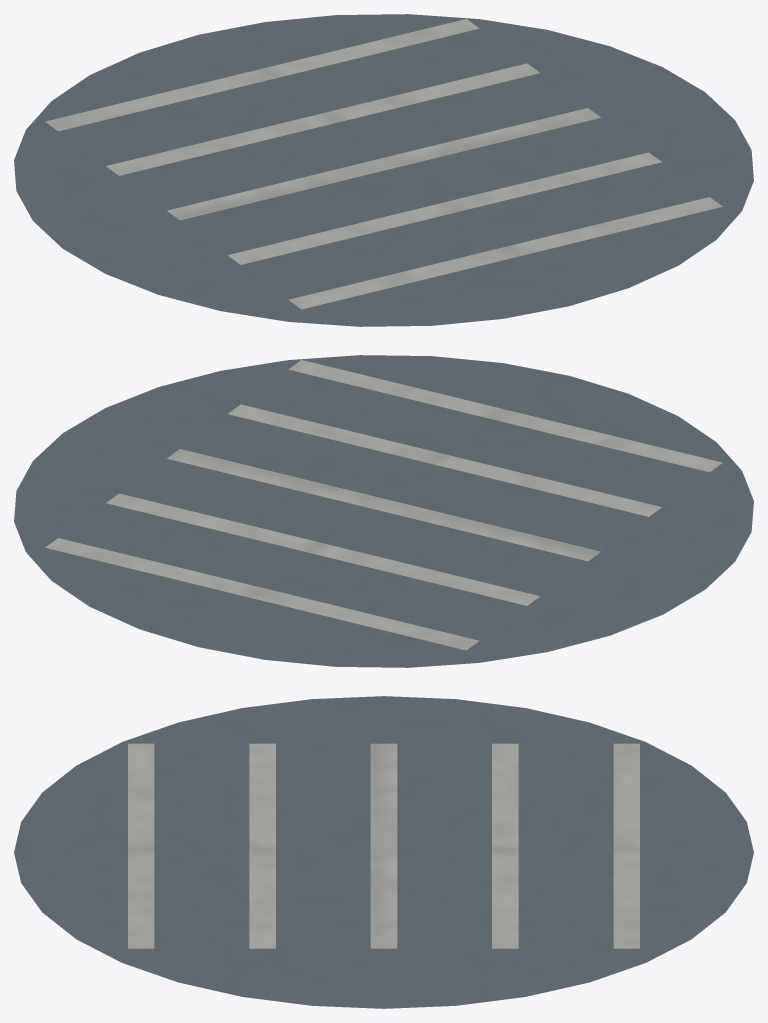
File: q01-manhole.glb
3 views of the same model, one above another, from view 1: azimuth 30°, elevation 25°; view 2: azimuth 150°, elevation 25°; view 3: azimuth 270°, elevation 25° (orthographic).
Bounding box in the file's own units: 0.64 × 0.006 × 0.64.
Materials: 2 (2 with a texture image).
